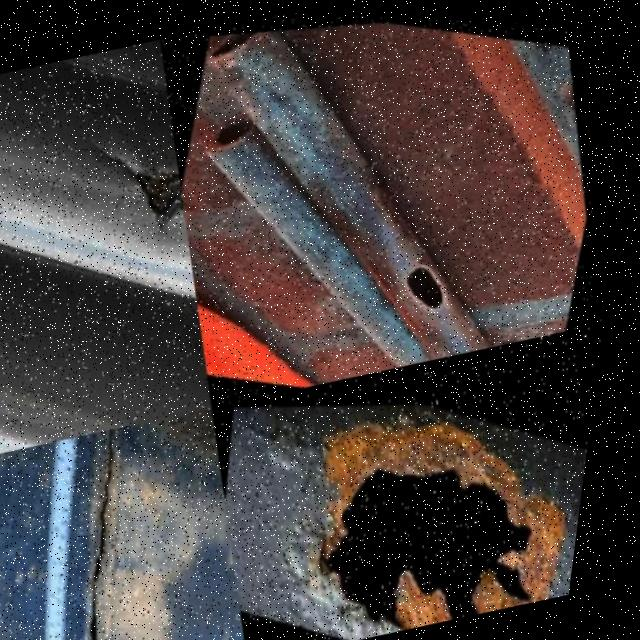crack: (13, 416, 222, 640)
hole: (276, 355, 600, 640), (383, 230, 474, 317), (491, 571, 560, 610)
rupture: (92, 108, 204, 250)
